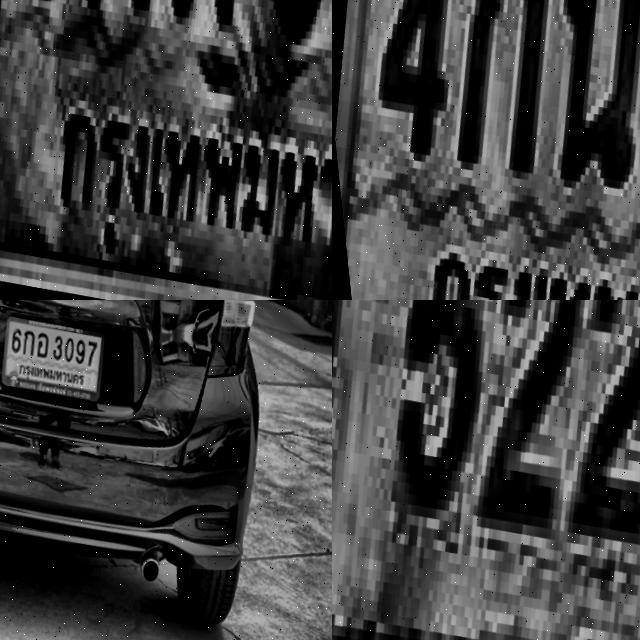license-plate: (332, 300, 640, 640), (0, 0, 332, 300), (332, 0, 640, 300), (0, 303, 110, 412)
